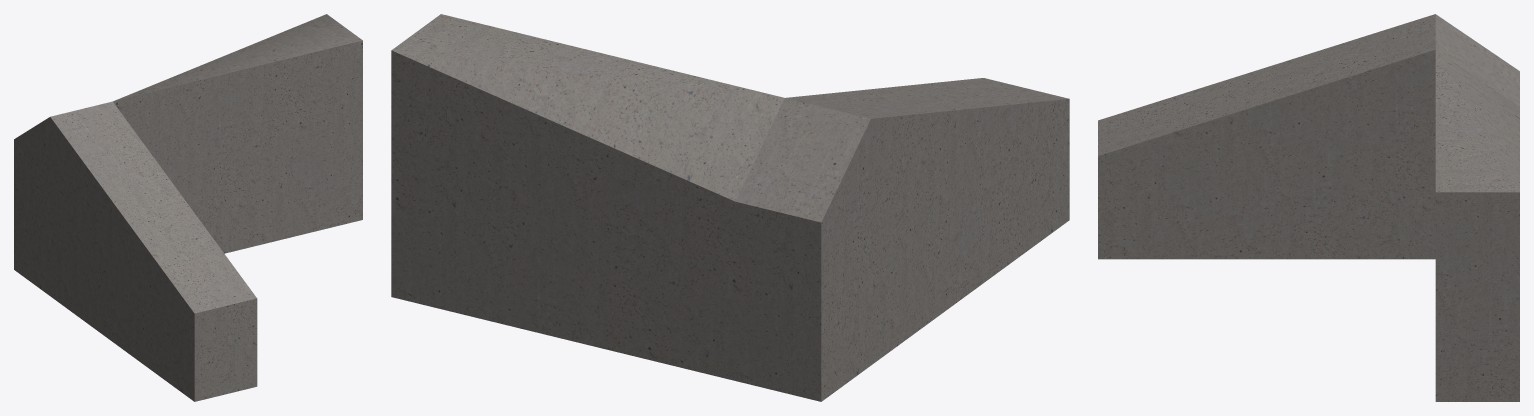
File: House5Ruin1.fbx
3 renders of one model, left to right at view 1: azimuth 30°, elevation 25°; view 2: azimuth 150°, elevation 25°; view 3: azimuth 270°, elevation 25°, orthographic. The views are drawn at different scales.
Parts seen in each view (by area): view 1: House5Ruin1; view 2: House5Ruin1; view 3: House5Ruin1.
Part boxes in pixels (x1,y1,x2,y2): House5Ruin1: (14, 14, 362, 401); House5Ruin1: (391, 14, 1069, 401); House5Ruin1: (1098, 14, 1519, 401).
Size of the model in its own units: 2.5 by 1.37 by 2.5.
